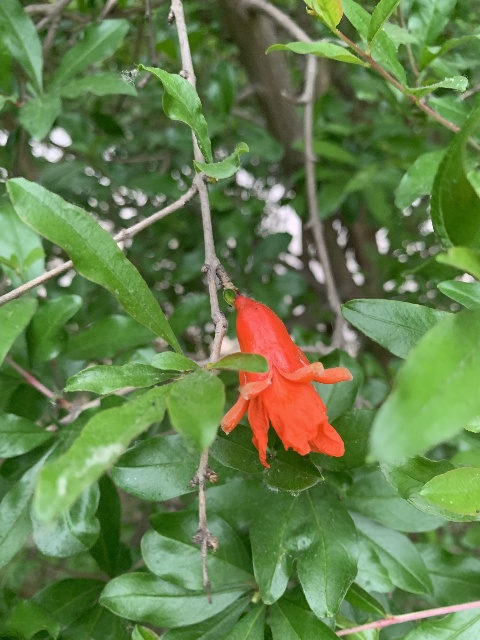flower: (220, 294, 353, 467)
